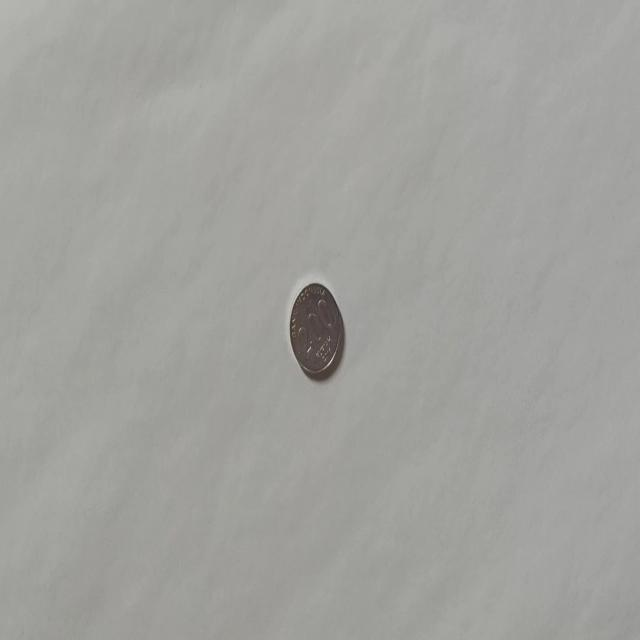dua ratus rupiah: (288, 280, 342, 377)
